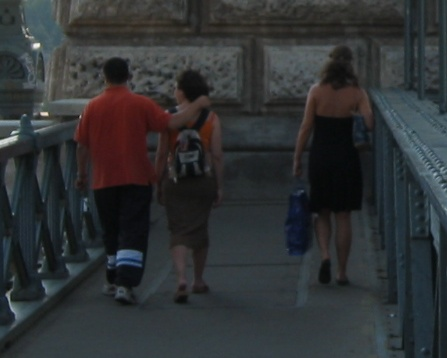person: (288, 44, 374, 286), (79, 56, 156, 307), (155, 65, 224, 306)
